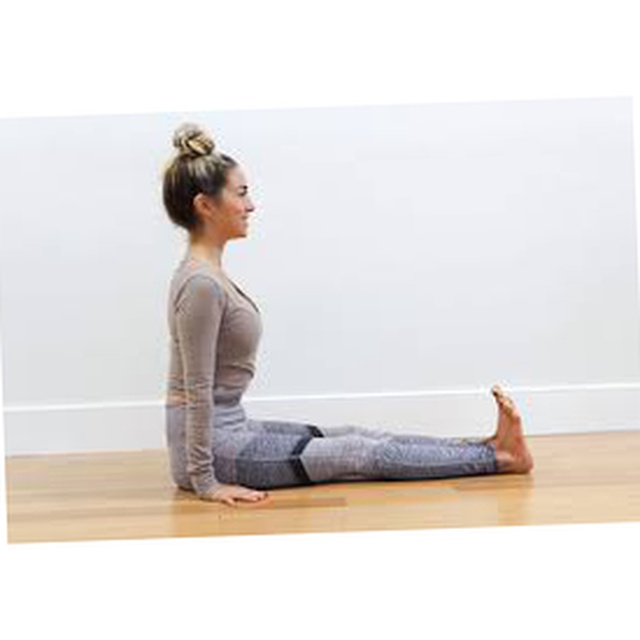Staff_Pose: (162, 122, 535, 507)
